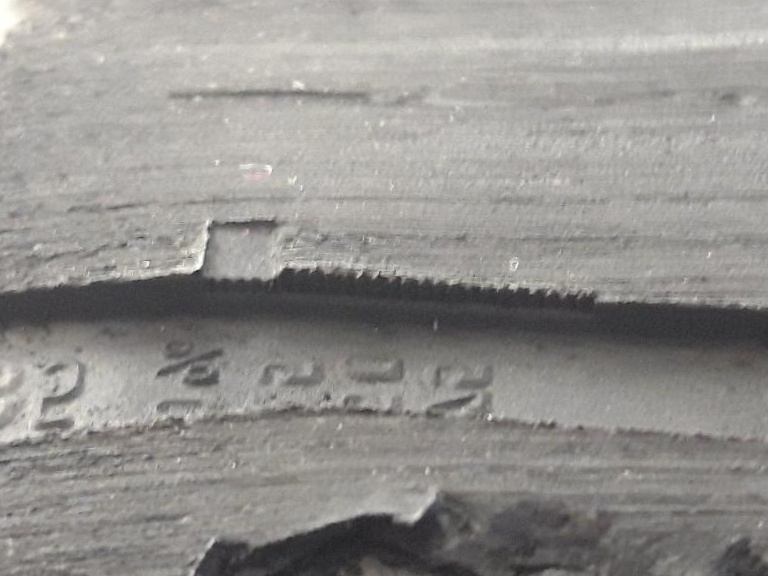temoin:0: (167, 195, 318, 331)
